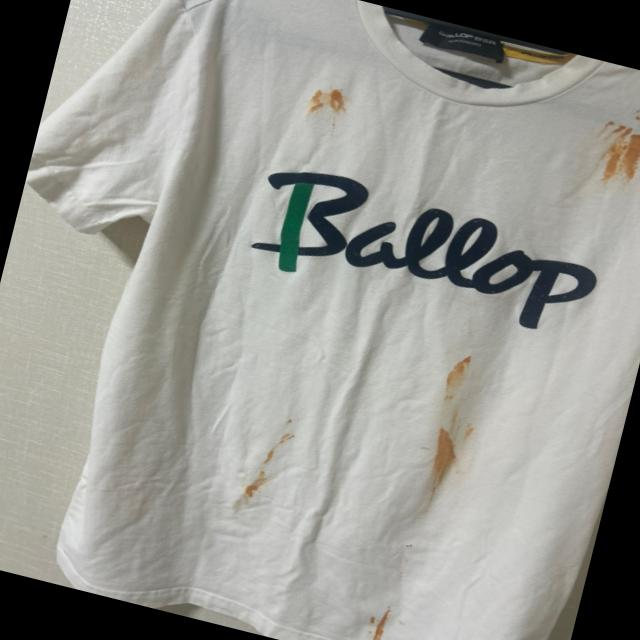stain: (238, 416, 305, 508), (428, 404, 479, 497), (587, 113, 640, 187), (298, 75, 354, 125), (439, 354, 478, 404), (358, 603, 395, 640), (402, 534, 419, 555), (627, 108, 640, 135)
